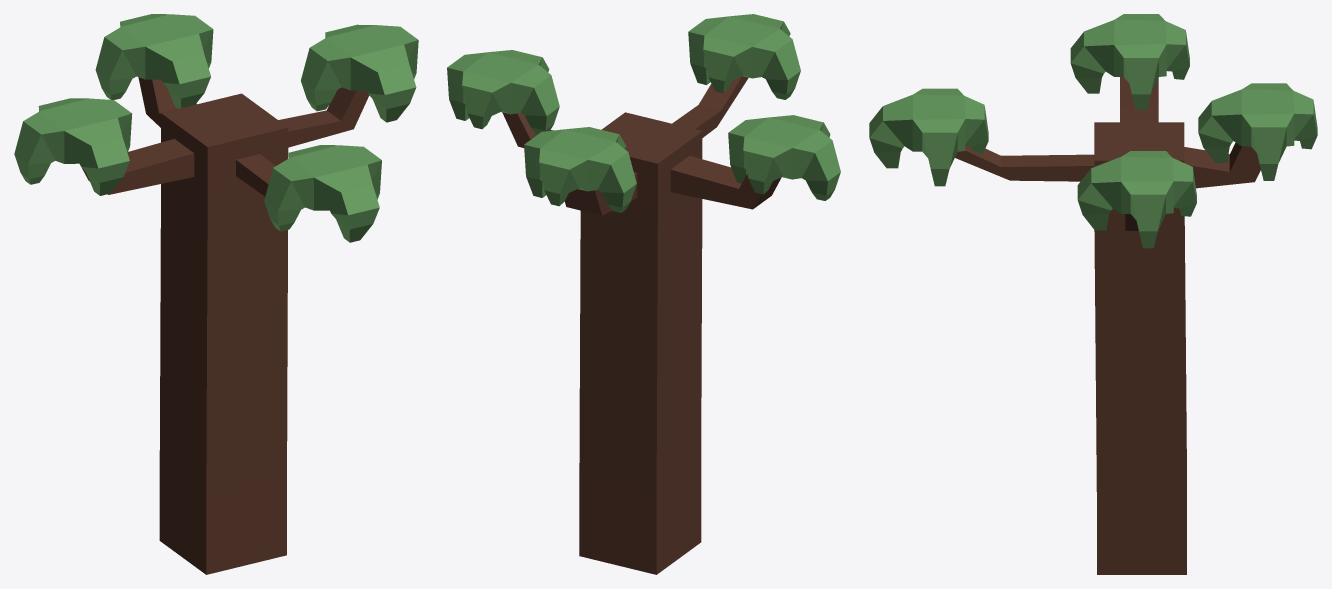
Rendered from Oaksapling_2.glb.
The picture shows the model from 3 angles, left to right: view 1: azimuth 30°, elevation 25°; view 2: azimuth 150°, elevation 25°; view 3: azimuth 270°, elevation 25°; orthographic projection. The views are drawn at different scales.
Visible parts, largest first — view 1: Cube.006, Cube.009, Cube.007, Cube.010, Cube.008; view 2: Cube.006, Cube.008, Cube.010, Cube.009, Cube.007; view 3: Cube.006, Cube.010, Cube.008, Cube.009, Cube.007.
Boxes of the visible parts, x1,y1,x2,y2 form: Cube.006: (80,77,369,574); Cube.009: (301,24,418,122); Cube.007: (14,98,132,195); Cube.010: (264,145,381,242); Cube.008: (95,14,213,108); Cube.006: (502,76,781,574); Cube.008: (524,127,636,212); Cube.010: (688,14,800,99); Cube.009: (447,50,559,134); Cube.007: (728,115,840,200); Cube.006: (955,77,1260,574); Cube.010: (869,88,988,186); Cube.008: (1198,83,1317,180); Cube.009: (1077,151,1196,248); Cube.007: (1070,14,1189,110).
Size of the model in its own units: 1.92 by 2.18 by 1.95.
